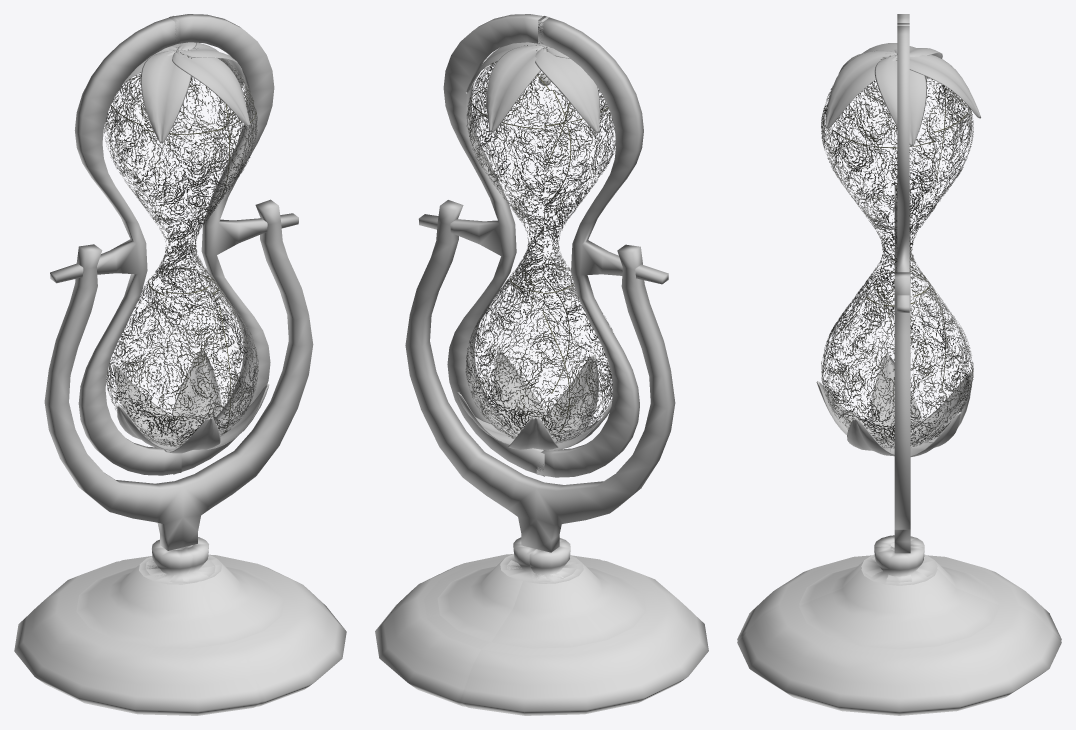
File: hourglasse.gltf
3 views of the same model, side by side, from view 1: azimuth 30°, elevation 25°; view 2: azimuth 150°, elevation 25°; view 3: azimuth 270°, elevation 25° (orthographic).
Parts seen in each view (by area): view 1: Sphere.003, Sphere, Sphere.001, Sphere.002, Circle.001, Circle; view 2: Sphere.003, Sphere.001, Sphere, Sphere.002, Circle.001, Circle; view 3: Sphere.003, Sphere, Circle, Circle.001, Sphere.002, Sphere.001.
Part boxes in pixels (x1,y1,x2,y2): Sphere.003: [14, 537, 346, 715]; Sphere: [104, 47, 258, 447]; Sphere.001: [50, 14, 298, 475]; Sphere.002: [44, 199, 313, 550]; Circle.001: [112, 349, 269, 453]; Circle: [122, 42, 250, 143]; Sphere.003: [375, 537, 708, 715]; Sphere.001: [418, 14, 668, 477]; Sphere: [465, 44, 615, 443]; Sphere.002: [405, 200, 675, 552]; Circle.001: [457, 350, 612, 450]; Circle: [466, 42, 600, 133]; Sphere.003: [737, 535, 1061, 715]; Sphere: [821, 55, 973, 448]; Circle: [825, 43, 980, 146]; Circle.001: [816, 354, 972, 456]; Sphere.002: [894, 185, 910, 553]; Sphere.001: [897, 14, 909, 312].
Size of the model in its own units: 4.56 by 9.46 by 4.46.
